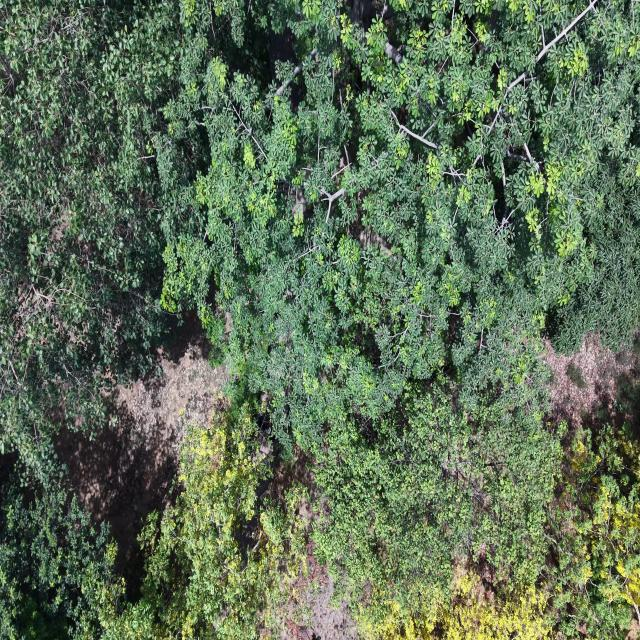DRY_AREA: (56, 331, 227, 598), (56, 332, 227, 585), (56, 332, 227, 584), (543, 334, 639, 482), (546, 334, 639, 451), (546, 334, 639, 434), (546, 334, 639, 430), (279, 540, 358, 639), (279, 576, 358, 639)
VEGETATION_TREE: (0, 0, 639, 639), (162, 2, 639, 637), (158, 2, 639, 448), (0, 0, 179, 639), (0, 2, 179, 459), (314, 387, 561, 637), (104, 403, 308, 639), (0, 456, 123, 639)
